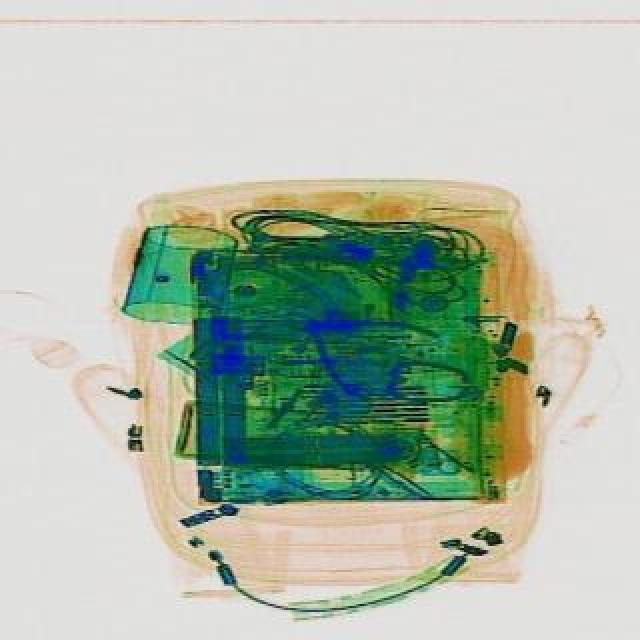wrench: (260, 274, 436, 408)
